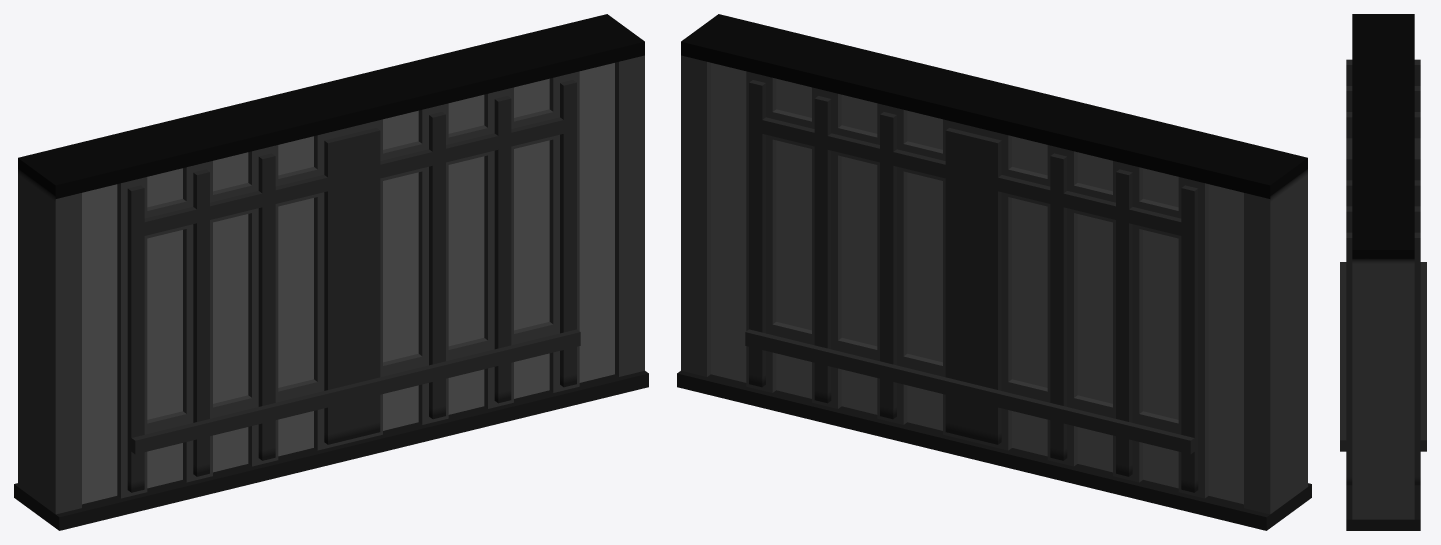
The model's file is Wall-Stone-Model-12.fbx.
3 renders of one model, left to right at view 1: azimuth 30°, elevation 25°; view 2: azimuth 150°, elevation 25°; view 3: azimuth 270°, elevation 25°, orthographic. The views are drawn at different scales.
Parts seen in each view (by area): view 1: Wall-Stone-Model-12; view 2: Wall-Stone-Model-12; view 3: Wall-Stone-Model-12.
Part boxes in pixels (bbox=[...]): Wall-Stone-Model-12: bbox=[14, 14, 648, 530]; Wall-Stone-Model-12: bbox=[677, 14, 1311, 530]; Wall-Stone-Model-12: bbox=[1340, 14, 1426, 530].
Bounding box in the file's own units: 90 × 50 × 14.
Materials: 1 (1 with a texture image).
